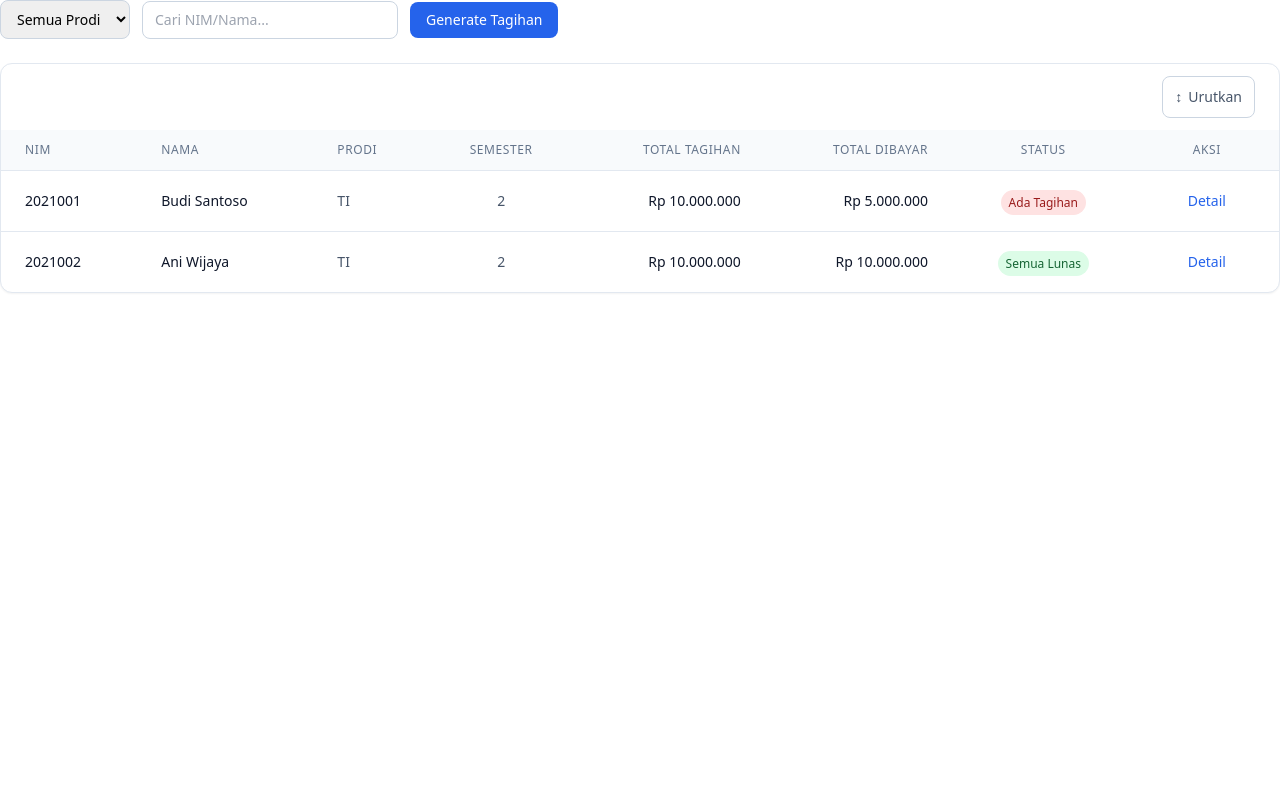
Scenario: FinancePaymentsPage (grouped) › klik Tutup di detail modal → tutup
expect the text "2021001" is shown: met, box [1, 170, 137, 232]
Click the button "Detail" in the row of "2021001": (1207, 201) [1176, 187, 1238, 215]
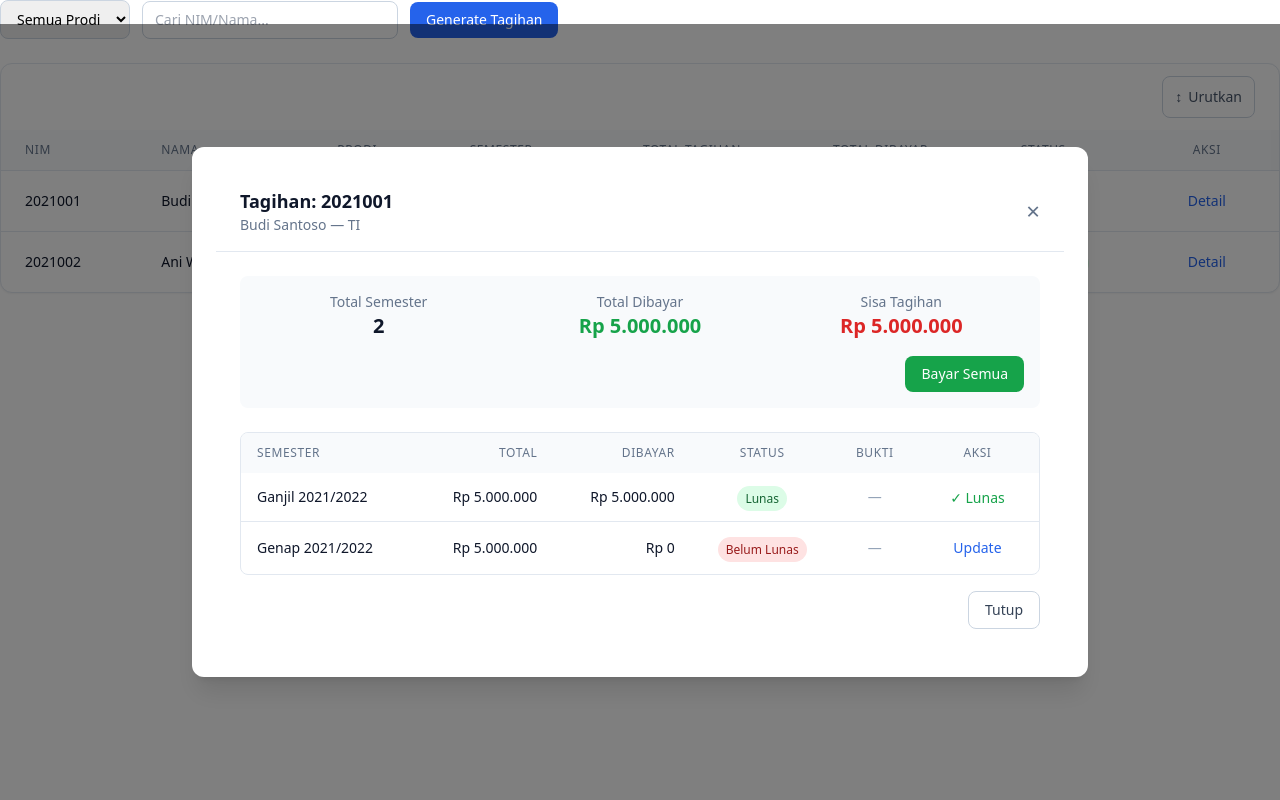
expect the text "Ganjil 2021/2022" is shown: met, box [241, 473, 416, 522]
Click the button "Tutup": (1004, 610) [968, 591, 1040, 629]
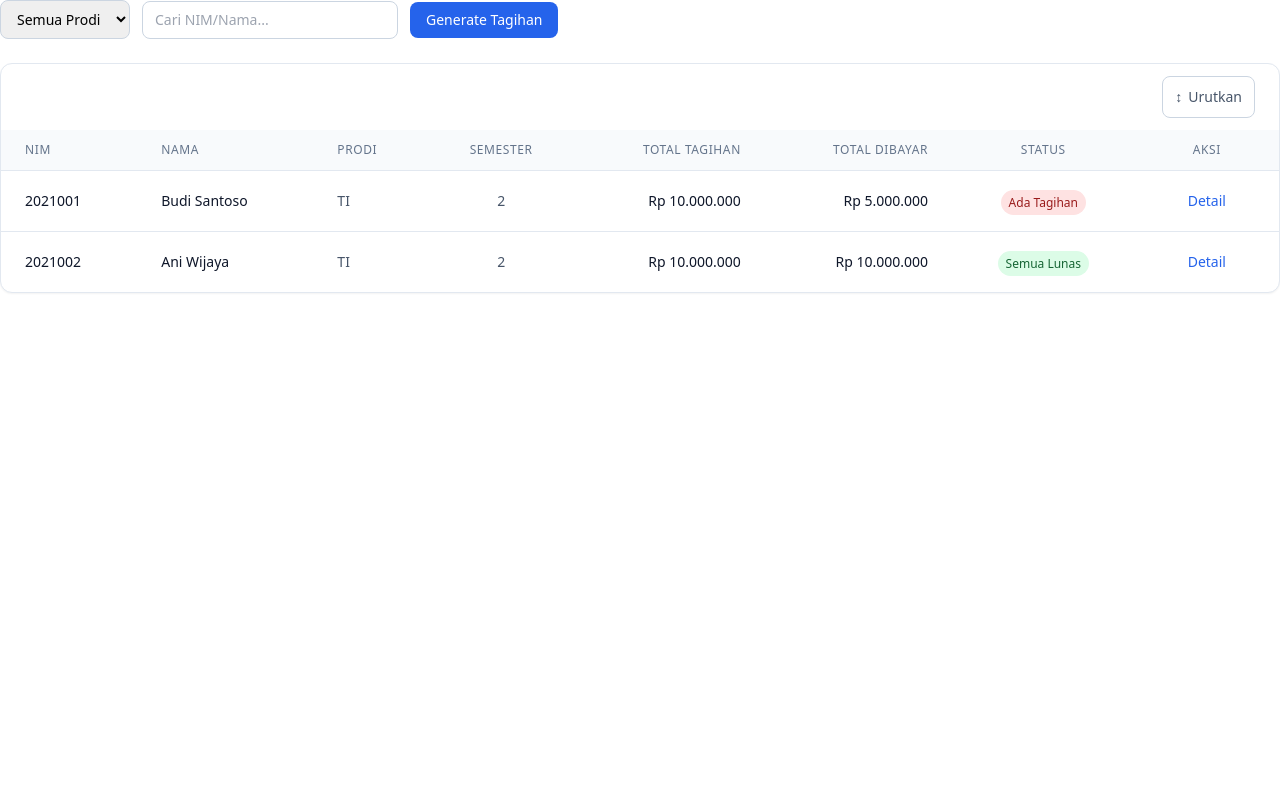
expect the text "Ganjil 2021/2022" is gone: met
